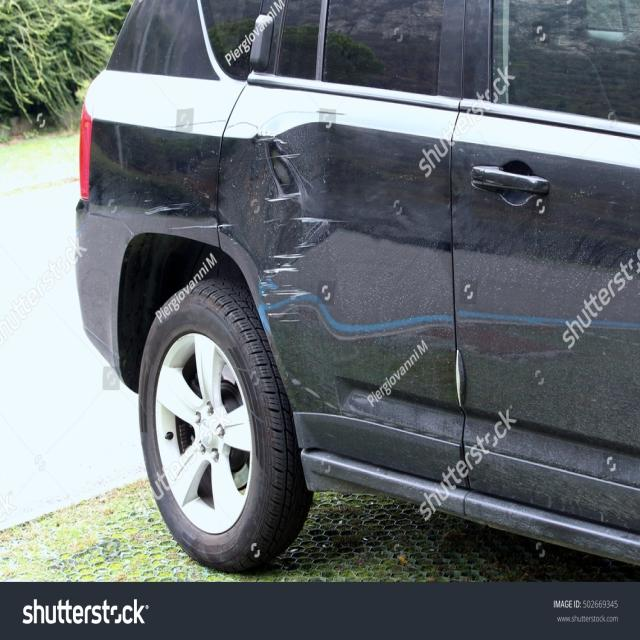dent: (221, 107, 375, 323)
scratch: (253, 133, 358, 328), (289, 376, 341, 412), (143, 203, 192, 216), (166, 224, 236, 231), (144, 200, 153, 202)
